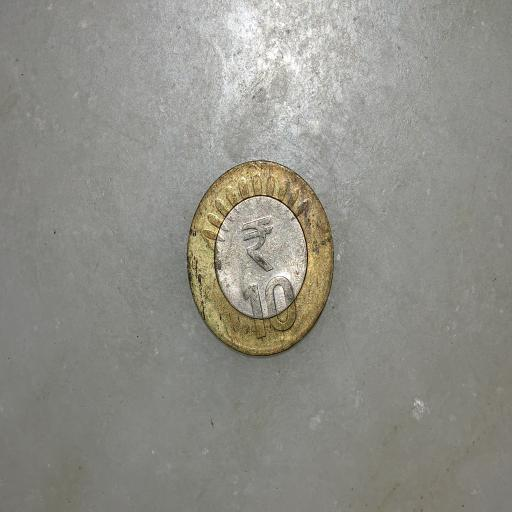rupee10: (185, 159, 336, 355)
